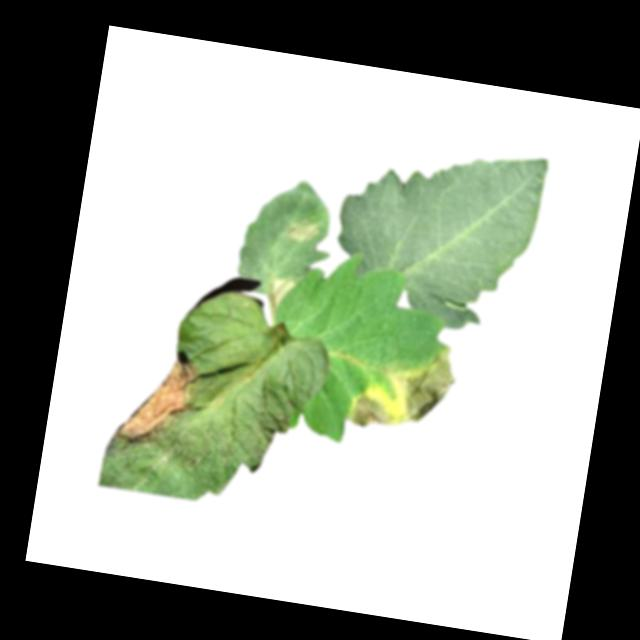Late_blight: (111, 347, 204, 457), (395, 339, 464, 430), (346, 389, 403, 432), (266, 277, 297, 318), (285, 216, 321, 246)
healthy: (325, 128, 550, 341)
